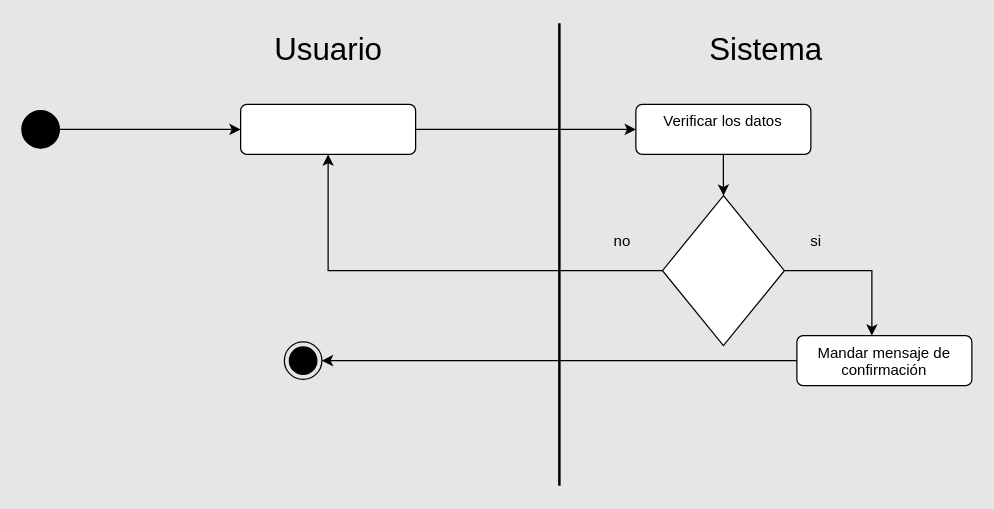
Image size: 994x509. Some labels were removed from this diagram. Here are the shapes that lost their labels. From the top down, the centre of each, then its label:
At (327,128): "Ingresar datos de sesión".
At (722,270): "Verificar si son correctos".
